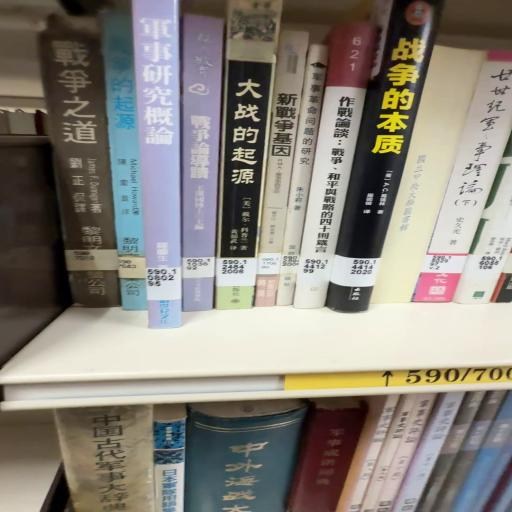backward: (372, 46, 485, 305)
book: (323, 1, 440, 309), (376, 15, 474, 313), (416, 56, 512, 311), (297, 19, 381, 310), (221, 2, 282, 309), (134, 9, 181, 333), (184, 4, 229, 318)
